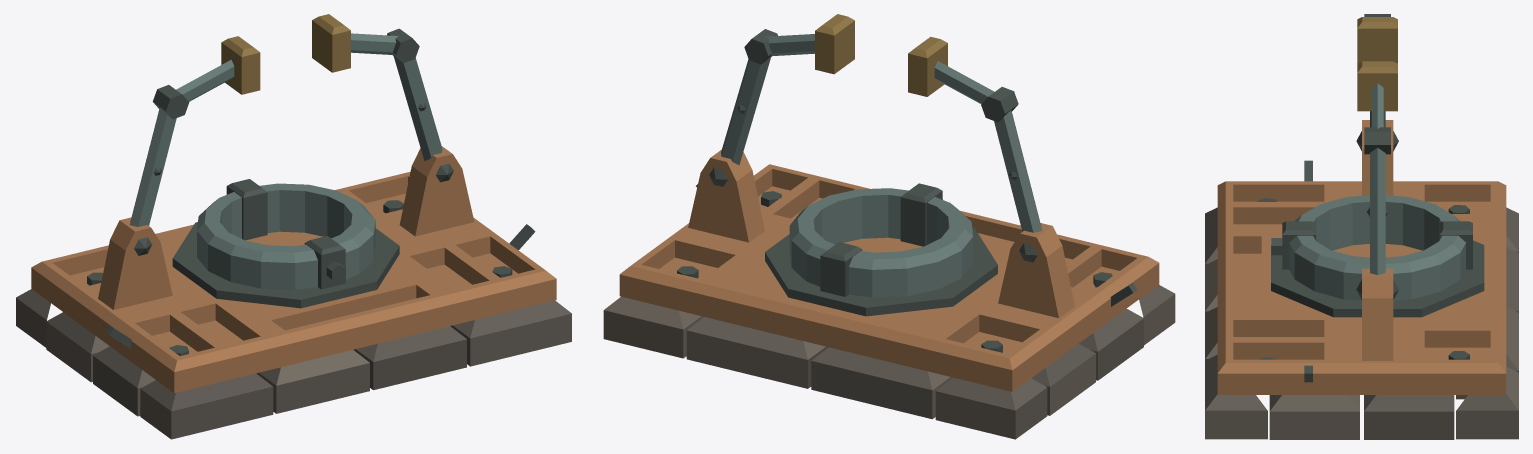
Rendered from device-disassembly-fixture-24f94f.glb.
3 renders of one model, left to right at view 1: azimuth 30°, elevation 25°; view 2: azimuth 150°, elevation 25°; view 3: azimuth 270°, elevation 25°, orthographic. The views are drawn at different scales.
Visible parts, largest first — view 1: fixture-body, arm-left-link, arm-right-link, forearm-right-link, forearm-left-link; view 2: fixture-body, arm-left-link, arm-right-link, forearm-right-link, forearm-left-link; view 3: fixture-body, arm-right-link, forearm-right-link, forearm-left-link.
Part boxes in pixels (x1,y1,x2,y2): fixture-body: [16, 146, 571, 439]; arm-left-link: [130, 85, 189, 226]; arm-right-link: [387, 28, 442, 161]; forearm-right-link: [312, 14, 398, 72]; forearm-left-link: [176, 36, 260, 101]; fixture-body: [603, 149, 1175, 439]; arm-left-link: [981, 87, 1041, 232]; arm-right-link: [721, 29, 777, 164]; forearm-right-link: [766, 14, 854, 74]; forearm-left-link: [908, 36, 994, 104]; fixture-body: [1205, 120, 1518, 439]; arm-right-link: [1364, 127, 1390, 275]; forearm-right-link: [1357, 61, 1397, 128]; forearm-left-link: [1357, 17, 1397, 63].
Size of the model in its own units: 1.58 by 1.05 by 1.
